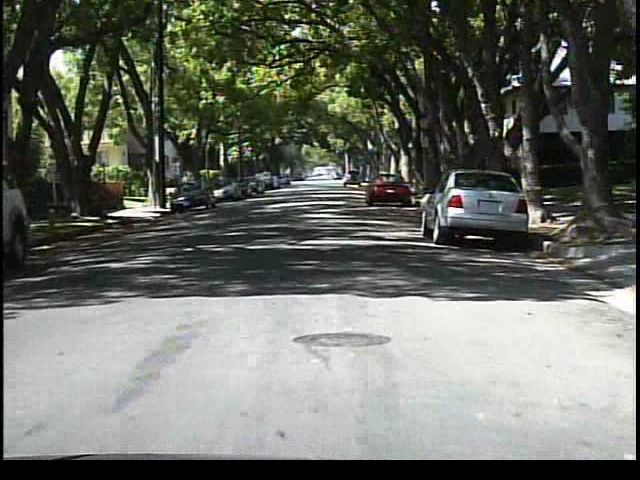person: (177, 171, 196, 203)
